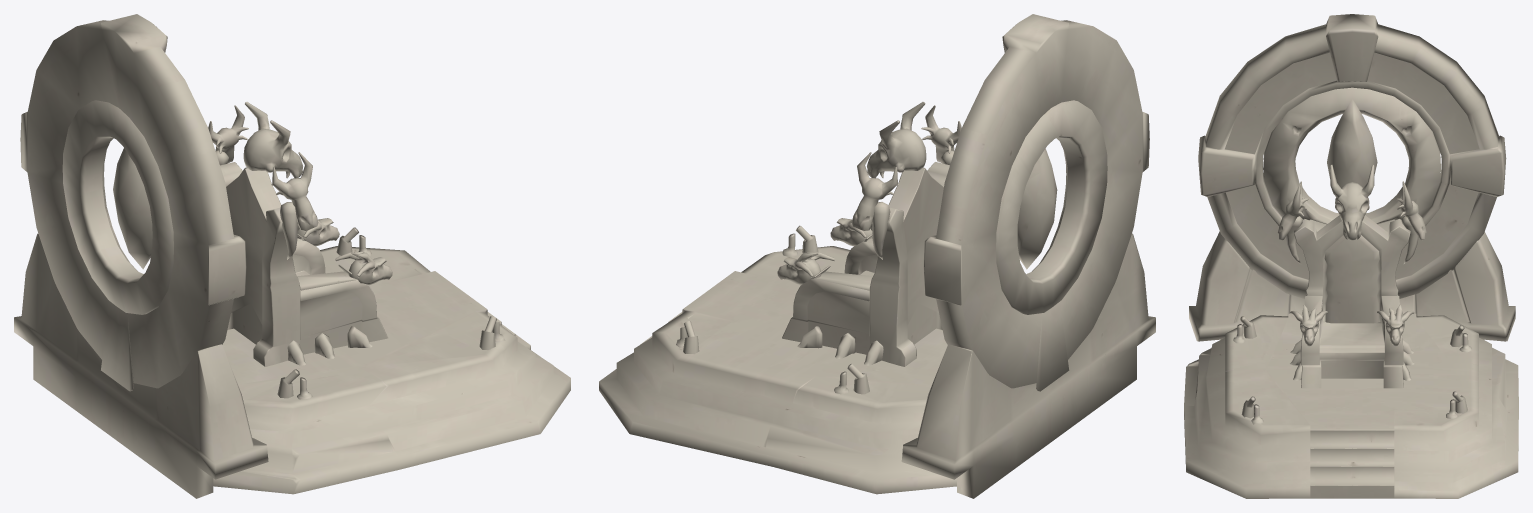
The model's file is TronoS.fbx.
3 renders of one model, left to right at view 1: azimuth 30°, elevation 25°; view 2: azimuth 150°, elevation 25°; view 3: azimuth 270°, elevation 25°, orthographic. The views are drawn at different scales.
Parts seen in each view (by area): view 1: tripo_node_701529d5; view 2: tripo_node_701529d5; view 3: tripo_node_701529d5.
Boxes of the visible parts, box(x1,y1,x2,y2) form: tripo_node_701529d5: box(14, 14, 570, 498); tripo_node_701529d5: box(599, 14, 1155, 498); tripo_node_701529d5: box(1184, 14, 1518, 498).
Bounding box in the file's own units: 601 × 600 × 550.
